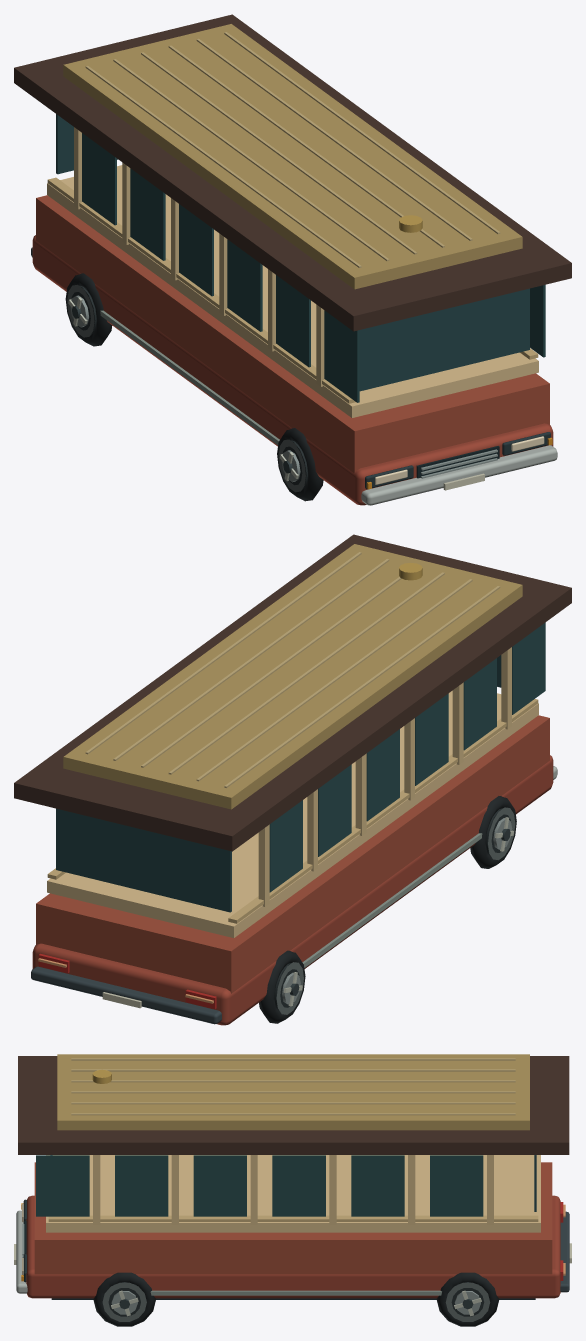
File: tram.glb
3 renders of one model, top to bottom at view 1: azimuth 30°, elevation 25°; view 2: azimuth 150°, elevation 25°; view 3: azimuth 270°, elevation 25°, orthographic. The views are drawn at different scales.
Parts seen in each view (by area): view 1: tram_body; view 2: tram_body; view 3: tram_body.
Part boxes in pixels (x1,y1,x2,y2): tram_body: [14, 14, 571, 505]; tram_body: [14, 534, 571, 1025]; tram_body: [14, 1054, 571, 1326].
Bounding box in the file's own units: 2.58 × 2.95 × 6.94.
